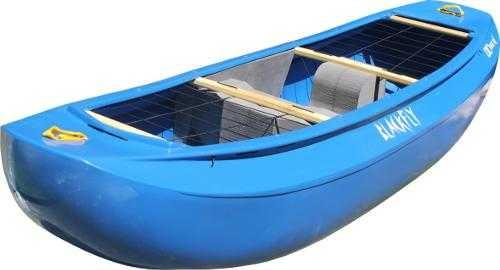kayak: (0, 1, 498, 264)
